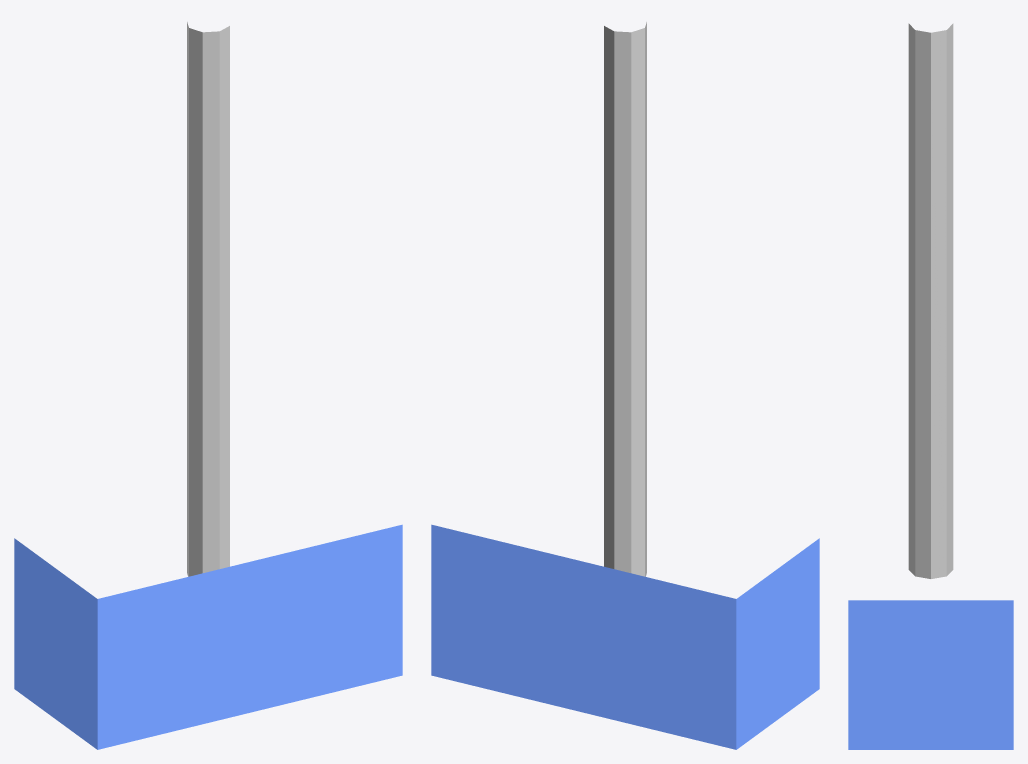
File: omniknight.glb
The picture shows the model from 3 angles, left to right: view 1: azimuth 30°, elevation 25°; view 2: azimuth 150°, elevation 25°; view 3: azimuth 270°, elevation 25°; orthographic projection.
Parts seen in each view (by area): view 1: omniknight-head, omniknight-haft; view 2: omniknight-head, omniknight-haft; view 3: omniknight-haft, omniknight-head.
Part boxes in pixels (<box>): omniknight-head: <box>14,524,402,749</box>; omniknight-haft: <box>187,22,229,576</box>; omniknight-head: <box>431,524,819,749</box>; omniknight-haft: <box>604,22,646,576</box>; omniknight-haft: <box>908,23,953,578</box>; omniknight-head: <box>848,600,1013,749</box>.
Bounding box in the file's own units: 0.55 × 1.13 × 0.26.
